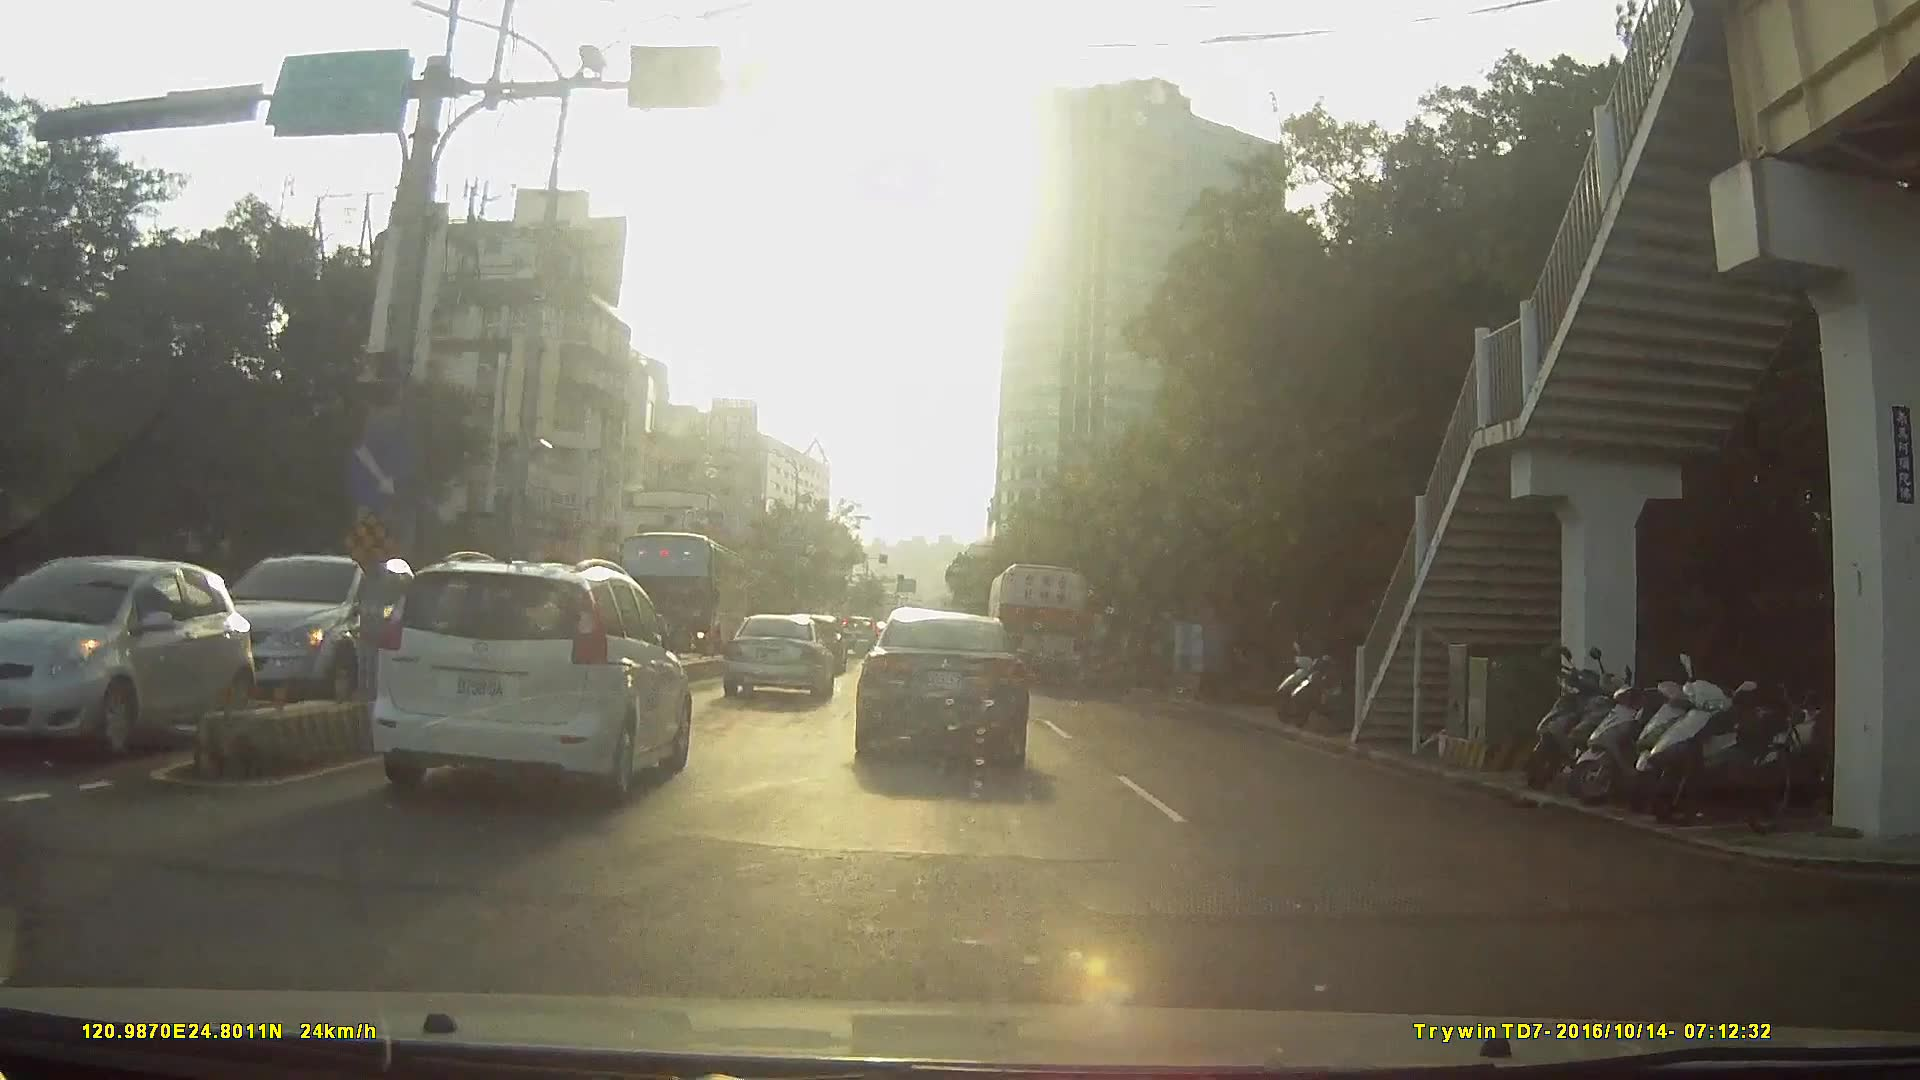vehicle: (251, 556, 684, 868), (371, 549, 694, 802), (173, 545, 452, 721), (0, 547, 218, 771), (853, 604, 1030, 774), (609, 529, 745, 659), (986, 562, 1092, 692), (724, 615, 835, 705), (835, 615, 882, 658)
